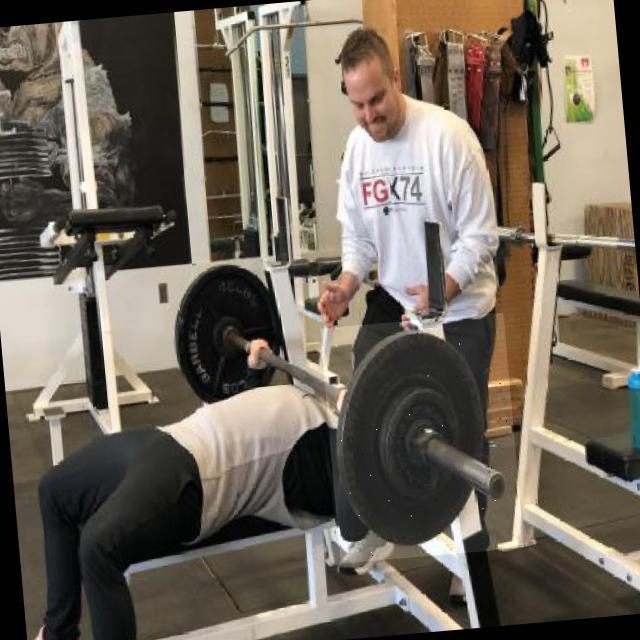barbell: (321, 313, 525, 564)
